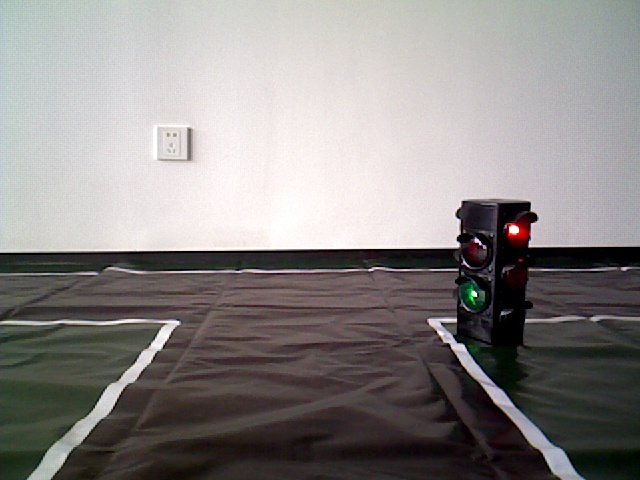red: (463, 202, 528, 346)
